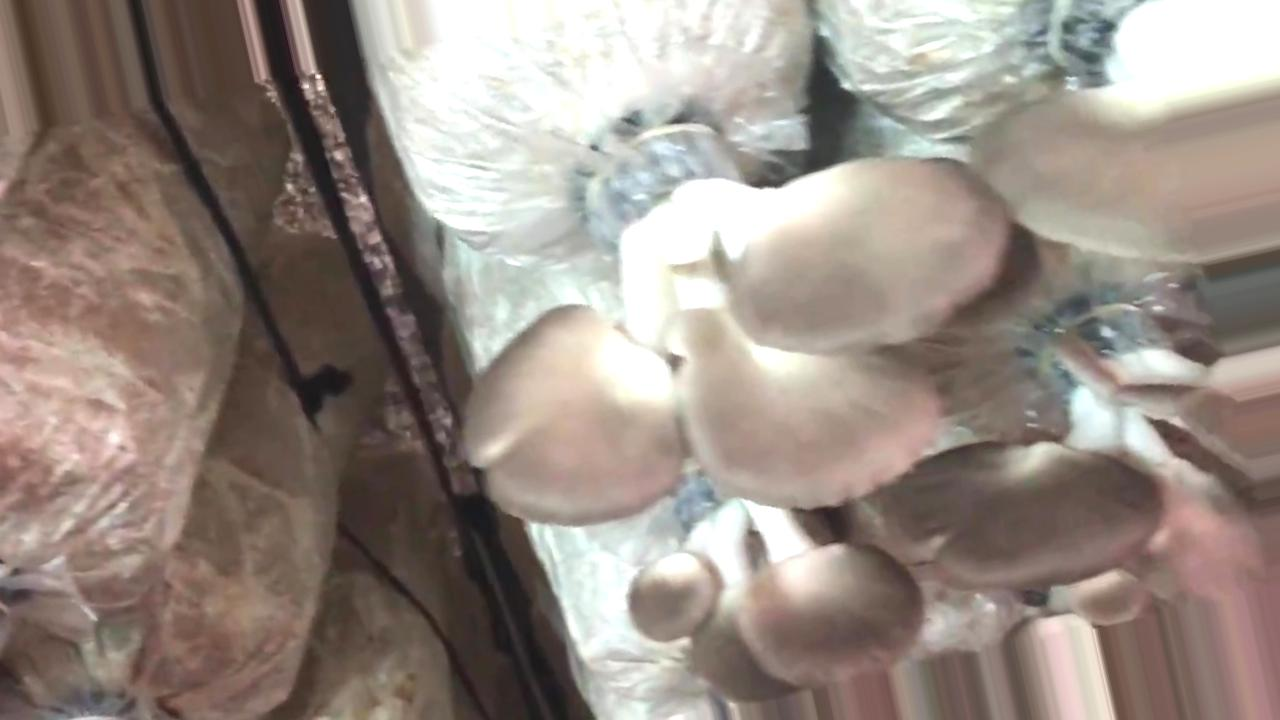nam: (466, 128, 1007, 525), (900, 296, 1280, 601), (971, 1, 1279, 268), (630, 460, 921, 699)
